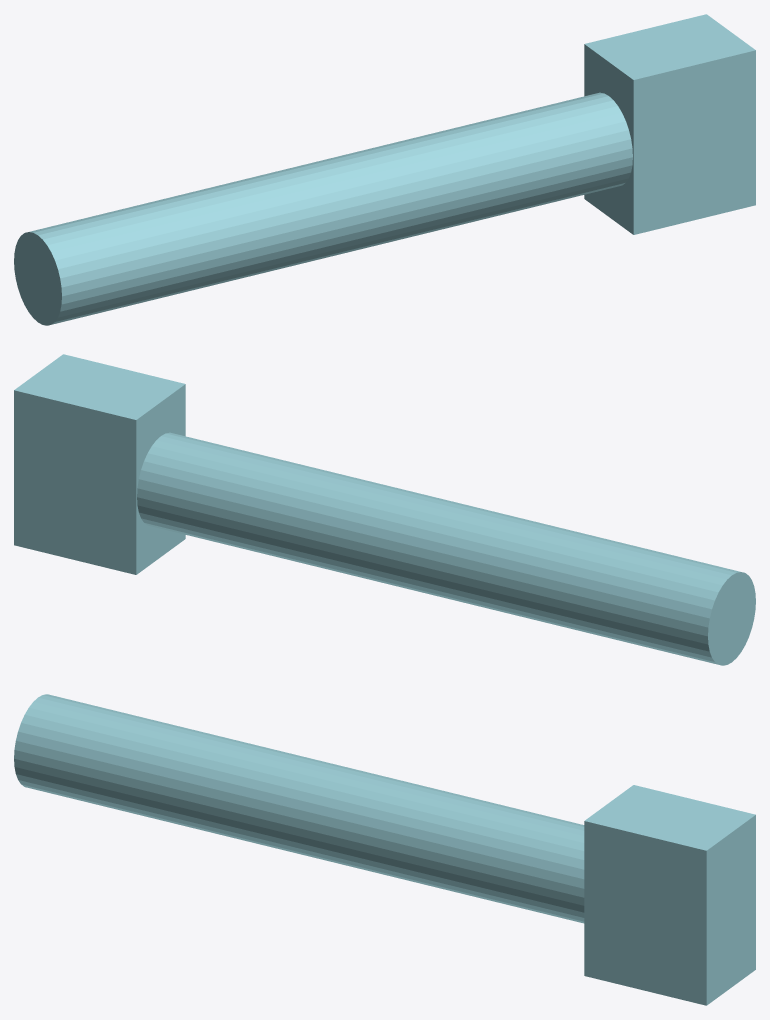
File: cylinder_hammer_v1013.obj
The picture shows the model from 3 angles, top to bottom: view 1: azimuth 30°, elevation 25°; view 2: azimuth 150°, elevation 25°; view 3: azimuth 330°, elevation 25°; orthographic projection.
Bounding box in the file's own units: 0.3294 × 0.0704 × 0.0406.
1 material, 1 textured.
